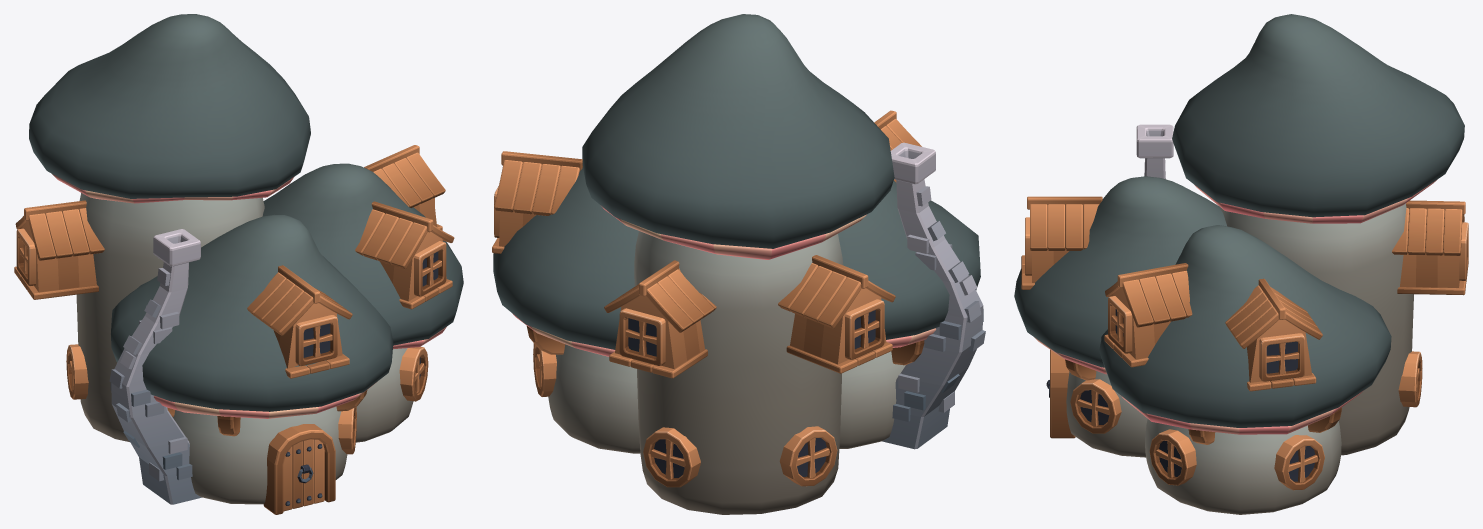
Rendered from mt_house16.fbx.
The picture shows the model from 3 angles, left to right: view 1: azimuth 30°, elevation 25°; view 2: azimuth 150°, elevation 25°; view 3: azimuth 270°, elevation 25°; orthographic projection. The views are drawn at different scales.
Visible parts, largest first — view 1: h16; view 2: h16; view 3: h16.
Part boxes in pixels (<box>): h16: <box>14,14,463,514</box>; h16: <box>492,14,985,514</box>; h16: <box>1014,14,1468,514</box>.
Size of the model in its own units: 1041 by 1056 by 1068.
